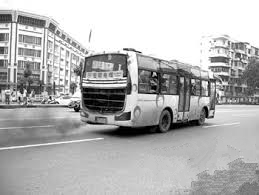smoke: (15, 113, 85, 140)
